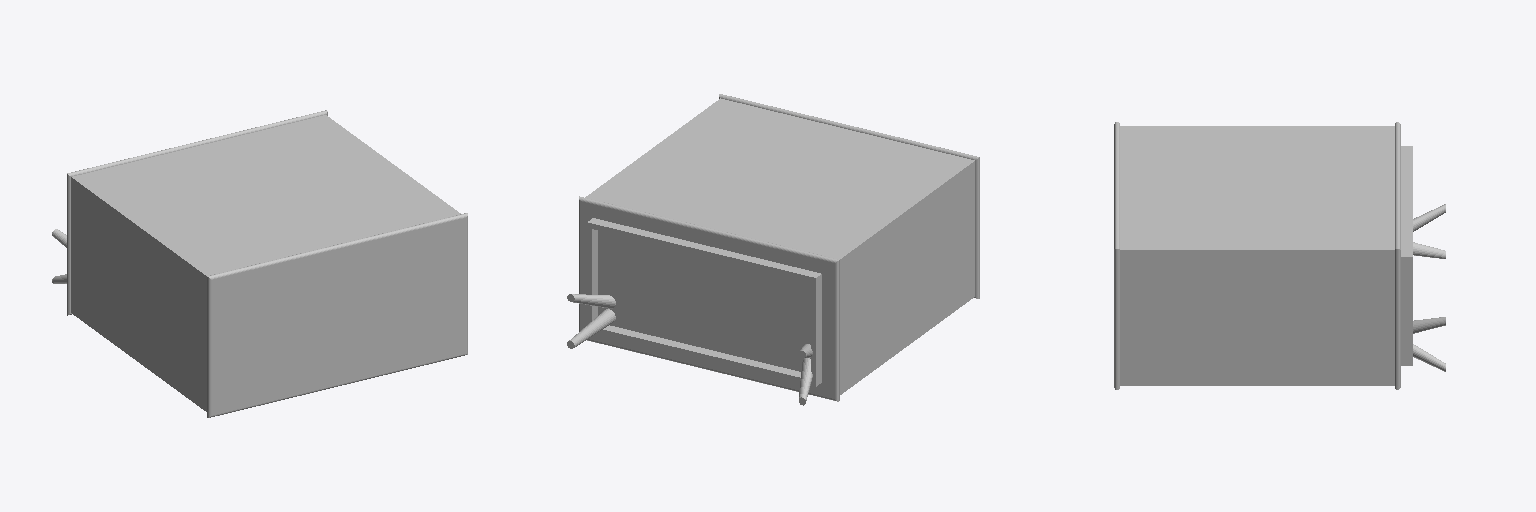
Rendered from cabinet_2.obj.
The picture shows the model from 3 angles: view 1: azimuth 30°, elevation 25°; view 2: azimuth 150°, elevation 25°; view 3: azimuth 270°, elevation 25°; orthographic projection.
Parts seen in each view (by area): view 1: obj212, obj384, obj198, obj197, obj271; view 2: obj384, obj178, obj198, obj141, obj179, obj181, obj187, obj180, obj271, obj197; view 3: obj270, obj384, obj181, obj182, obj197, obj271.
Boxes of the visible parts, x1,y1,x2,y2 form: obj212: [212, 218, 465, 415]; obj384: [77, 116, 455, 274]; obj198: [71, 177, 206, 411]; obj197: [72, 176, 210, 275]; obj271: [322, 115, 460, 214]; obj384: [590, 100, 970, 258]; obj178: [598, 230, 810, 371]; obj198: [840, 161, 974, 394]; obj141: [580, 201, 834, 398]; obj179: [587, 222, 815, 386]; obj181: [588, 218, 820, 277]; obj187: [603, 325, 800, 377]; obj180: [816, 274, 821, 386]; obj271: [585, 98, 724, 198]; obj197: [835, 160, 974, 259]; obj270: [1120, 250, 1394, 385]; obj384: [1120, 128, 1394, 247]; obj181: [1401, 146, 1412, 256]; obj182: [1401, 257, 1412, 365]; obj197: [1120, 126, 1394, 127]; obj271: [1120, 248, 1394, 249].
Size of the model in its own units: 39.37 by 20.47 by 43.49.